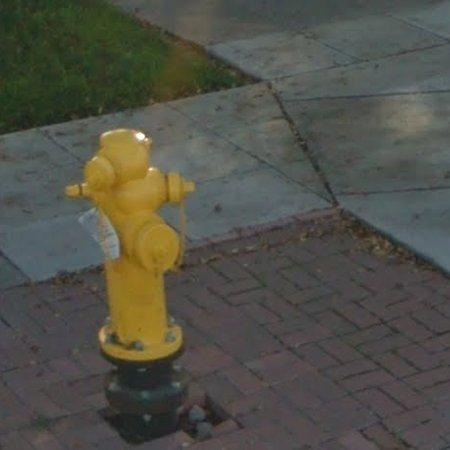a fire hydrant: (65, 129, 195, 444)
